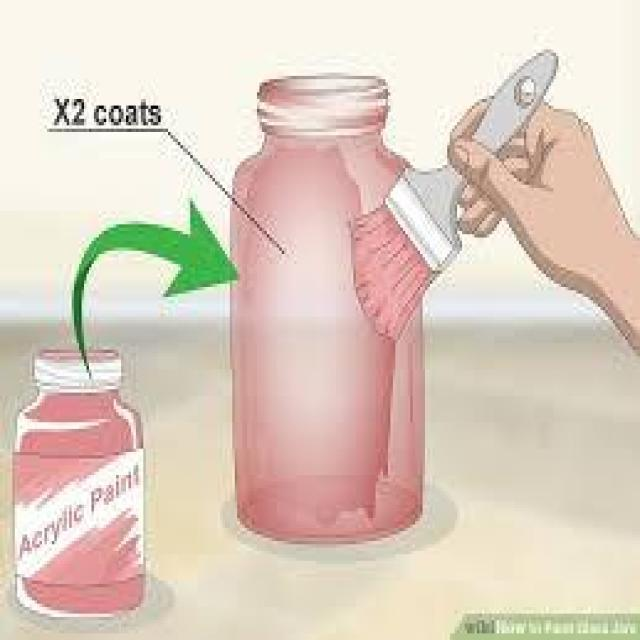Glass: (231, 72, 427, 549), (10, 344, 151, 618)
